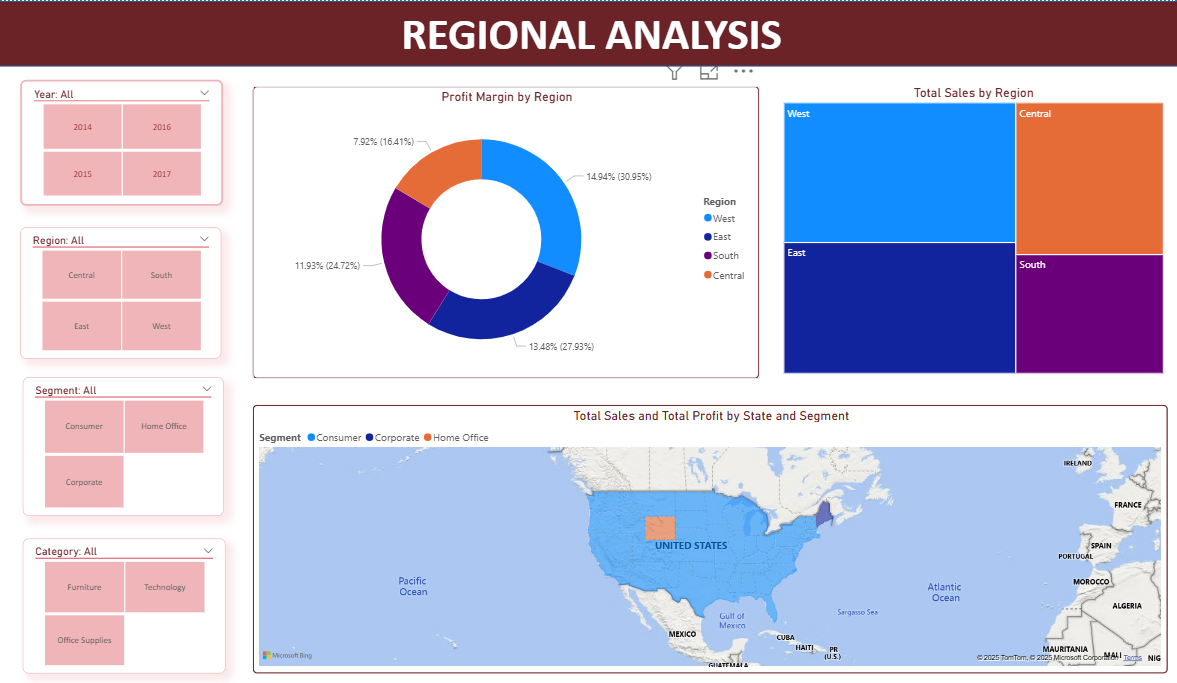

This screenshot's page, from the dashboard's own definition file:
{"tool":"powerbi","page":{"name":"Regional Analysis","canvas":[1580,920],"ordinal":2},"visuals":[{"type":"actionButton","box":[0,0,100,40],"z":0},{"type":"filledMap","fields":{"Category":["Dim_Geography.State"],"Series":["Dim_Customer.Segment"]},"box":[338,538,1220,358],"z":1000},{"type":"treemap","fields":{"Group":["Dim_Geography.Region"],"Values":["Fact_Sales.Total Sales"]},"box":[1042,112,516,390],"z":2000},{"type":"donutChart","fields":{"Category":["Dim_Geography.Region"],"Y":["Fact_Sales.Profit Margin"]},"box":[337.5,112.5,675,390],"z":3000},{"type":"slicer","fields":{"Values":["Dim_Date.OrderYear"]},"box":[28,105.7,270,168.3],"z":4000},{"type":"slicer","fields":{"Values":["Dim_Geography.Region"]},"box":[28,302.3,268.3,175],"z":5000},{"type":"slicer","fields":{"Values":["Dim_Customer.Segment"]},"box":[31.3,502.3,268.3,185],"z":6000},{"type":"slicer","fields":{"Values":["Dim_Product.Category"]},"box":[31.3,717.3,270,180],"z":7000},{"type":"shape","box":[0,0,1580,87.1],"z":8000}]}

Visuals, with their boxes in screenshot pixels (x1, y1, x2, y2), scaled from the page's 1580x920 canvas onto the 1177x683 screenshot:
actionButton: (0, 0, 74, 30)
filledMap - Dim_Geography.State x Dim_Customer.Segment: (252, 399, 1161, 665)
treemap - Dim_Geography.Region x Fact_Sales.Total Sales: (776, 83, 1161, 373)
donutChart - Dim_Geography.Region x Fact_Sales.Profit Margin: (251, 84, 754, 373)
slicer - Dim_Date.OrderYear: (21, 78, 222, 203)
slicer - Dim_Geography.Region: (21, 224, 221, 354)
slicer - Dim_Customer.Segment: (23, 373, 223, 510)
slicer - Dim_Product.Category: (23, 533, 224, 666)
shape: (0, 0, 1176, 65)
